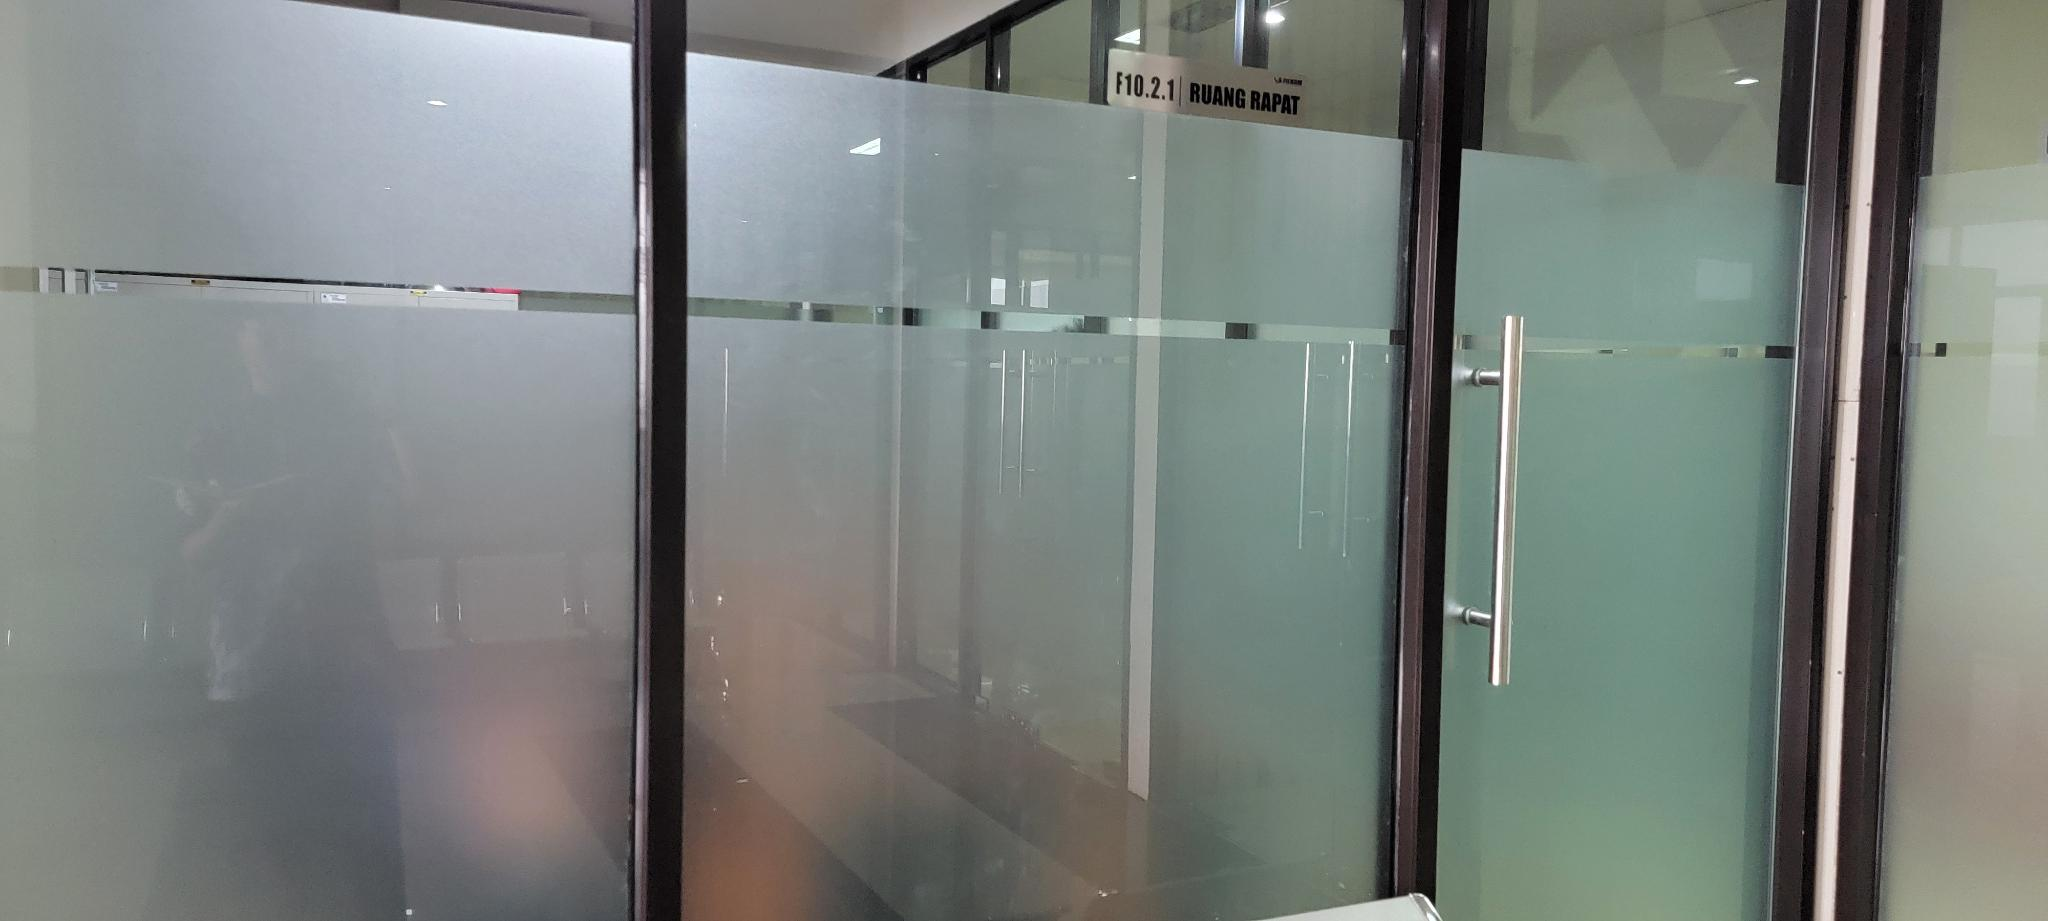plate: (1105, 46, 1307, 128)
